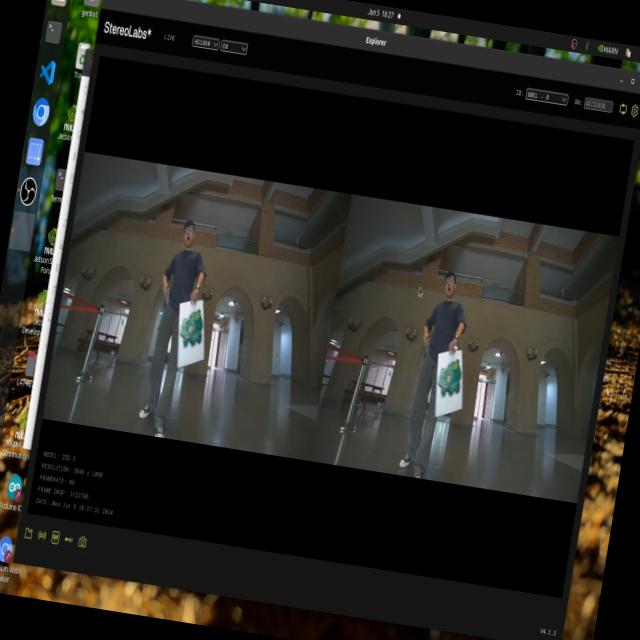green: (168, 296, 212, 361), (431, 356, 470, 414)
